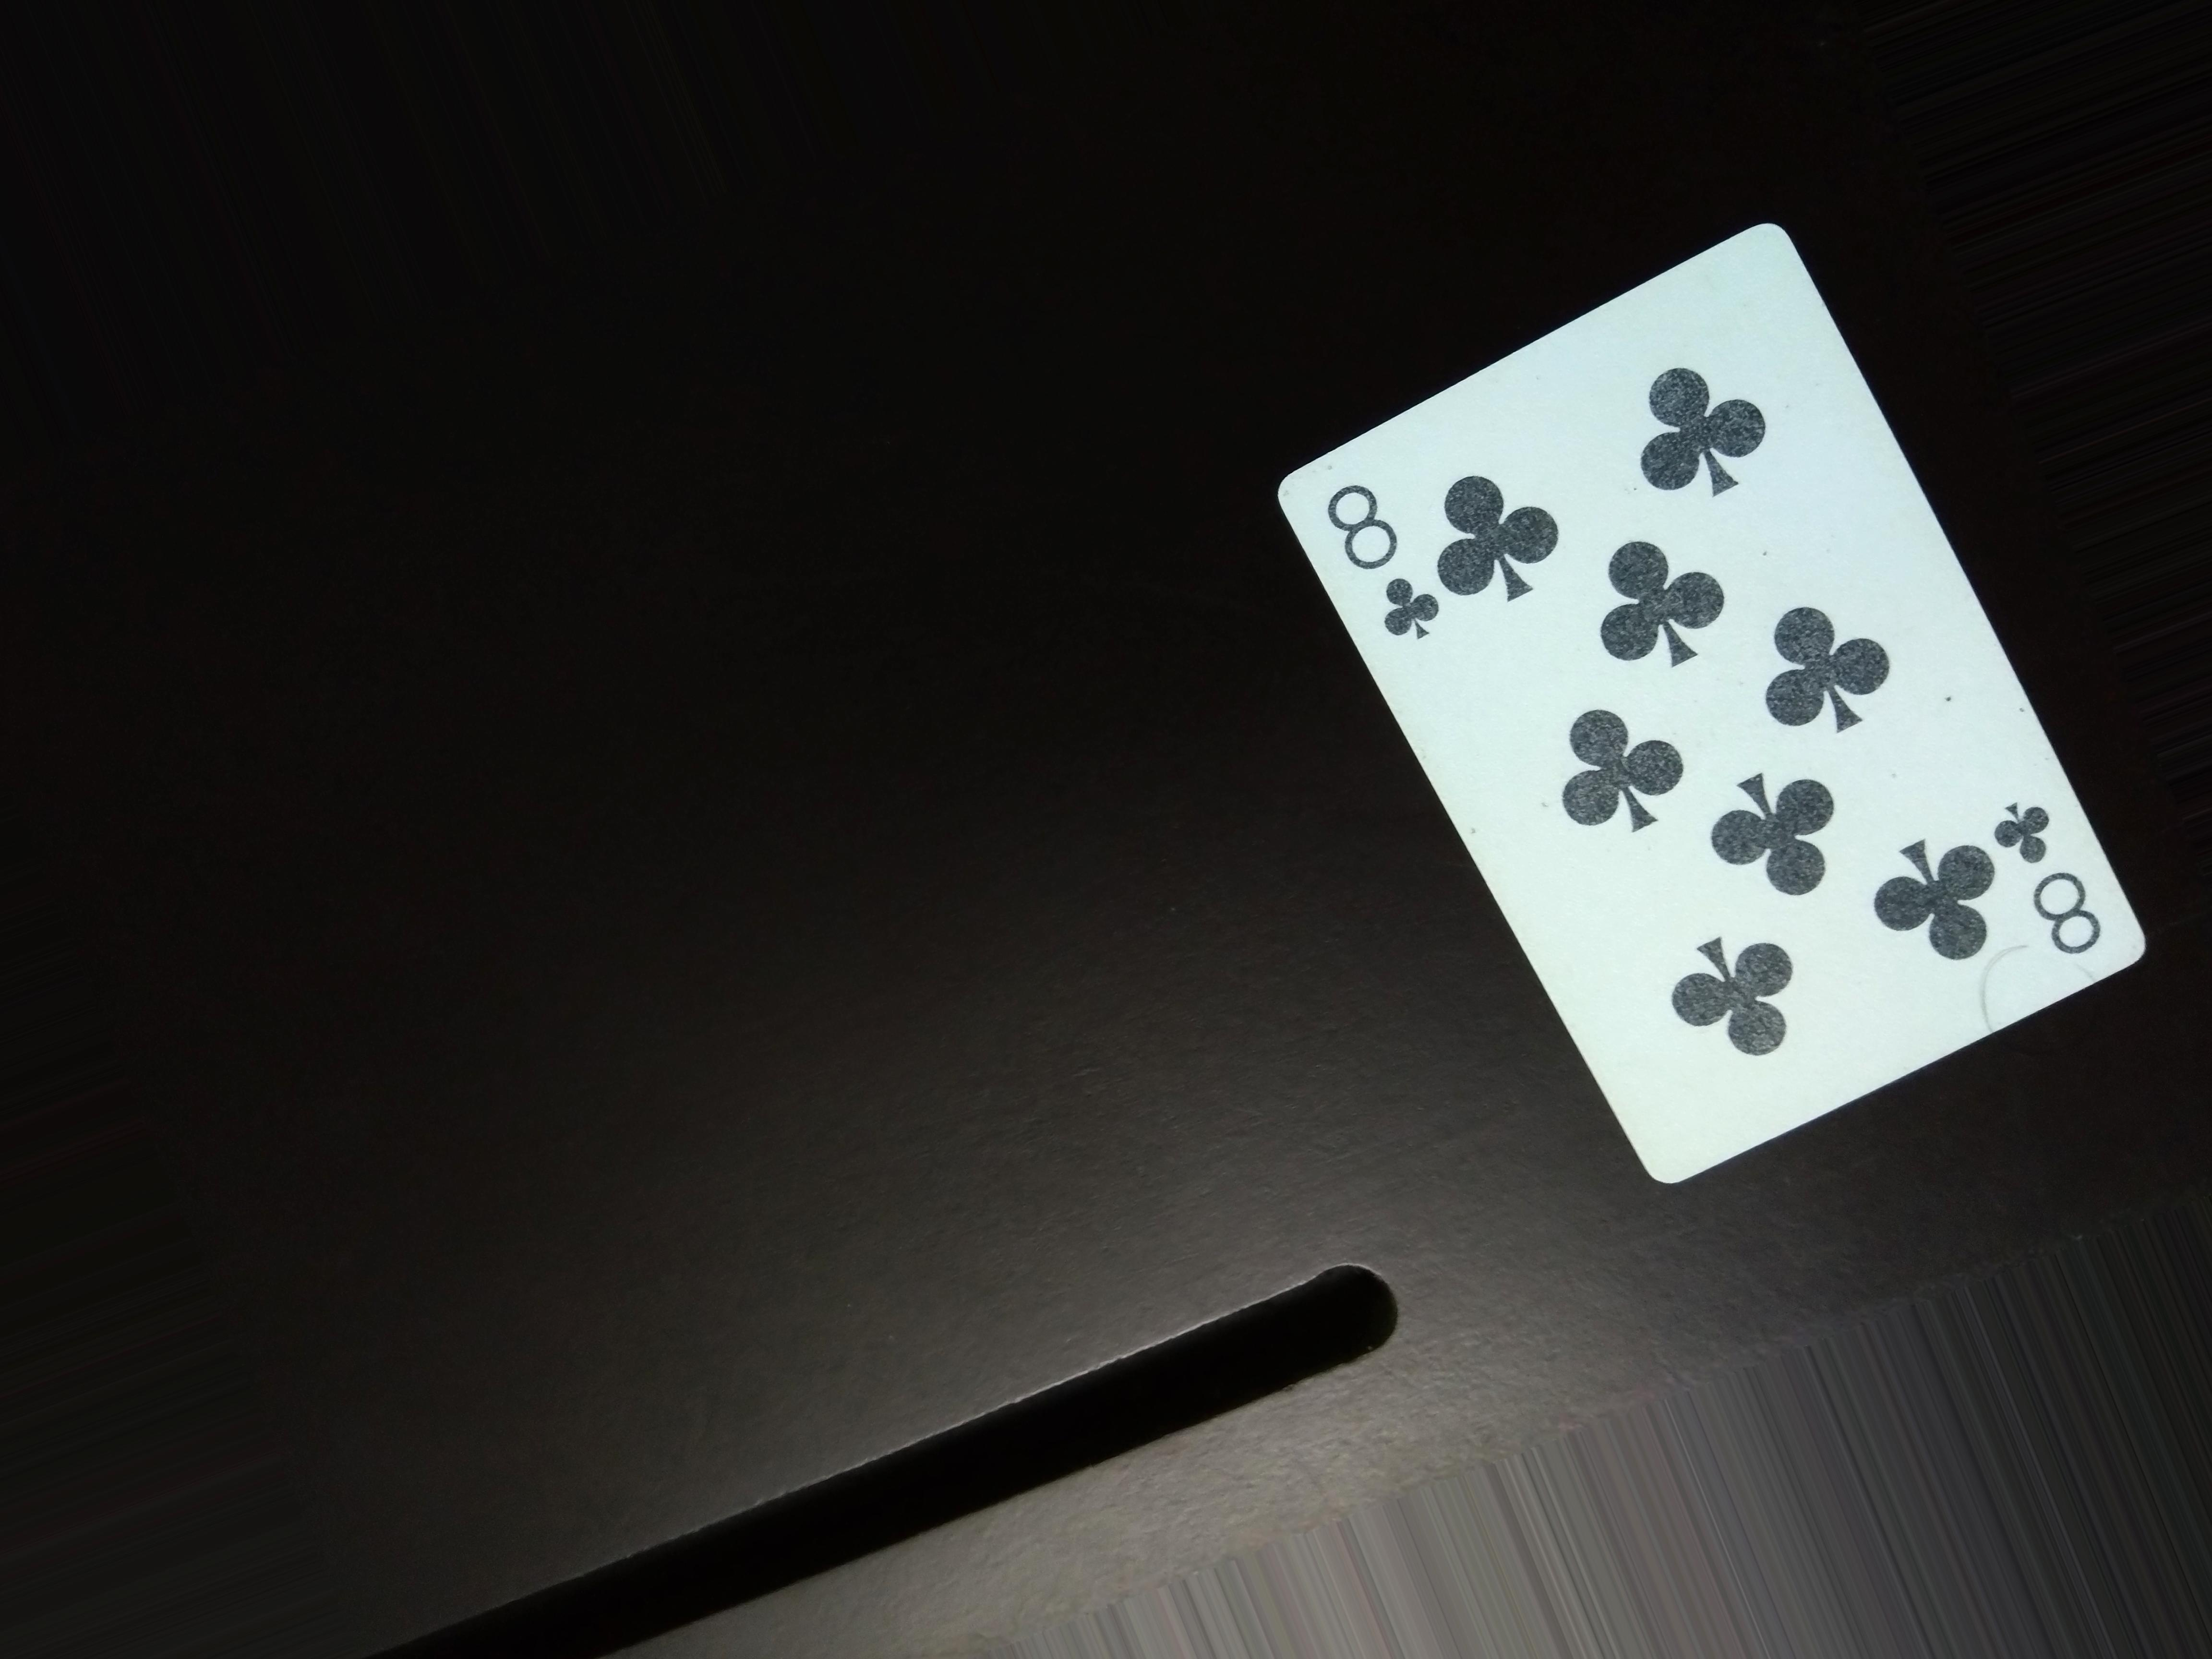8C: (1315, 472, 1454, 655)
